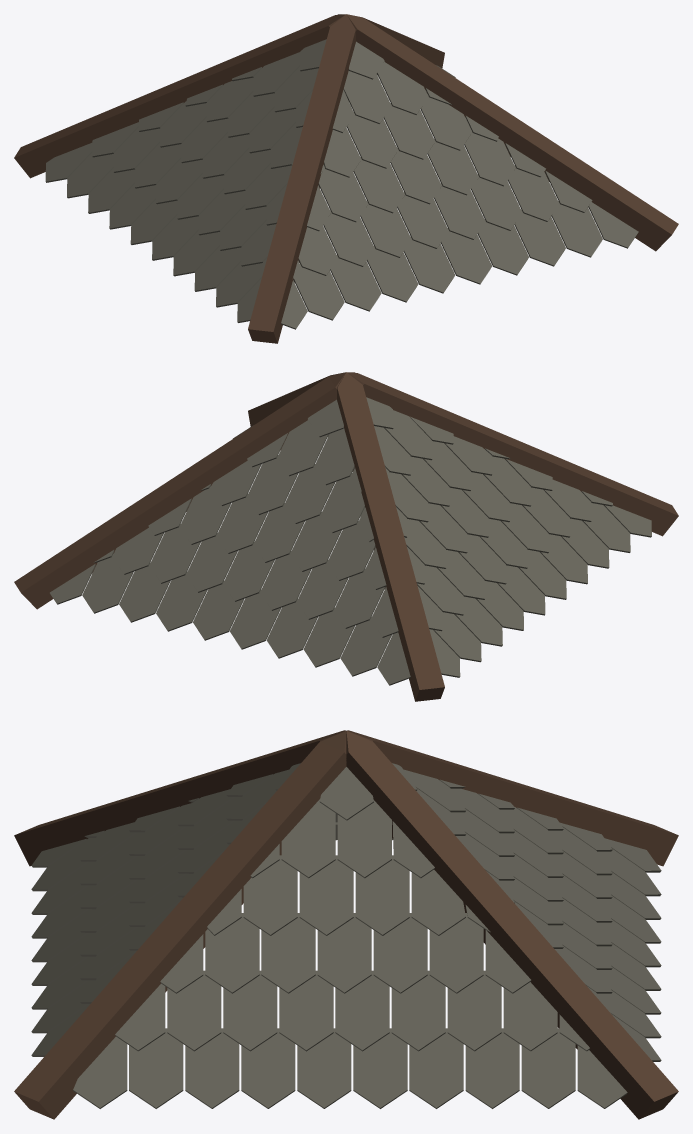
Rendered from Big Square Roof base.fbx.
3 renders of one model, top to bottom at view 1: azimuth 30°, elevation 25°; view 2: azimuth 150°, elevation 25°; view 3: azimuth 270°, elevation 25°, orthographic. The views are drawn at different scales.
Parts seen in each view (by area): view 1: Wood Roof Tile.076, Cube.342; view 2: Wood Roof Tile.076, Cube.342; view 3: Wood Roof Tile.076, Cube.342.
Boxes of the visible parts, x1=… form: Wood Roof Tile.076: x1=45, y1=39, x2=638, y2=329; Cube.342: x1=14, y1=14, x2=678, y2=343; Wood Roof Tile.076: x1=50, y1=397, x2=651, y2=685; Cube.342: x1=14, y1=372, x2=678, y2=701; Wood Roof Tile.076: x1=31, y1=763, x2=661, y2=1108; Cube.342: x1=14, y1=730, x2=678, y2=1119.
Bounding box in the file's own units: 6.03 × 2.61 × 6.12.
